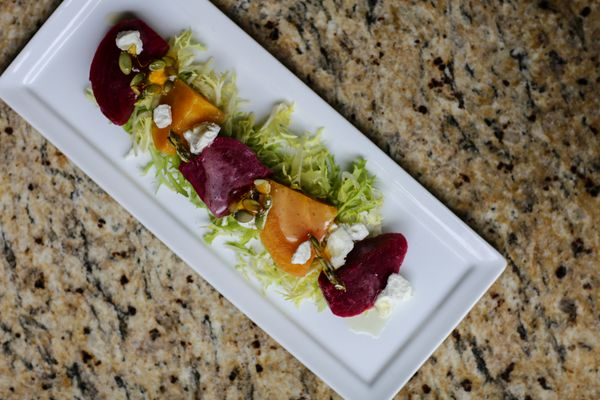sushi: (21, 3, 510, 393)
